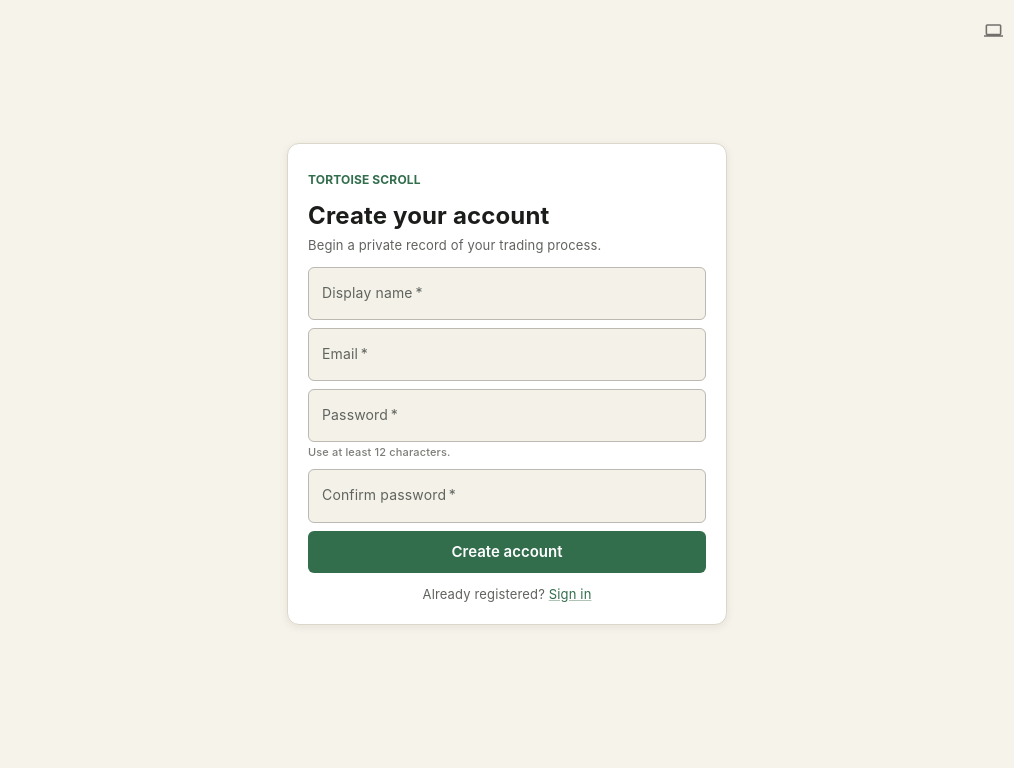
Phase 2 authentication UI › displays server registration errors
Type "Trader" into the field labelled "Display name *" at [507, 294], box [308,267,706,320]
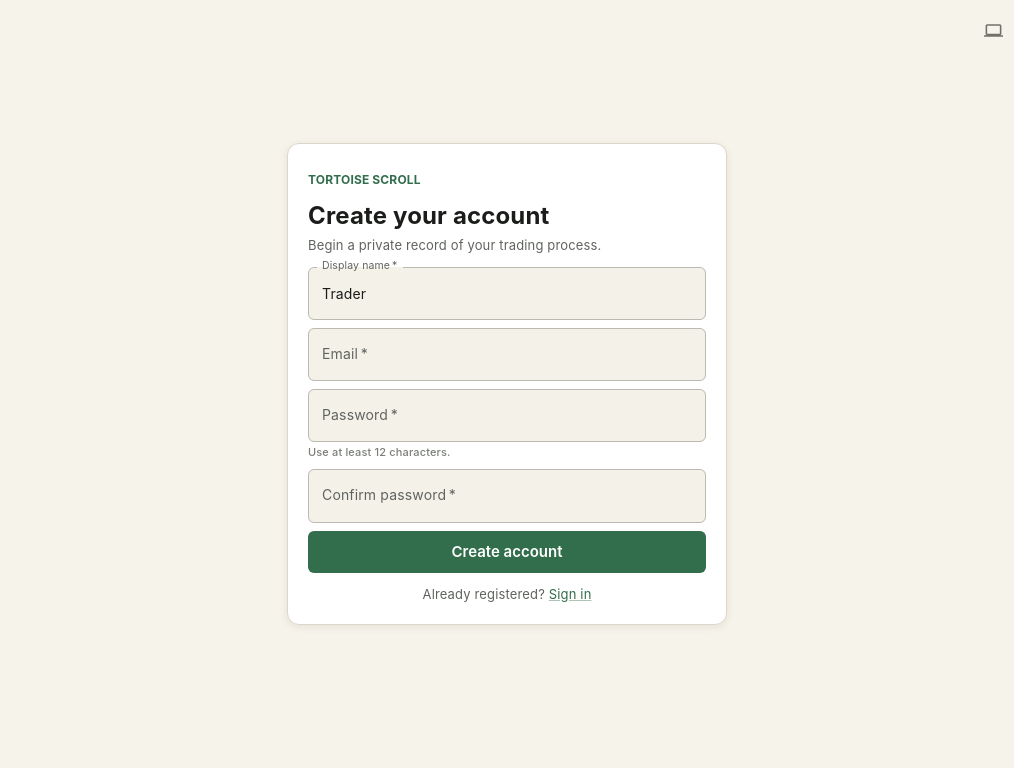
Type "trader@example.com" into the field labelled "Email *" at [507, 355], box [308,328,706,381]
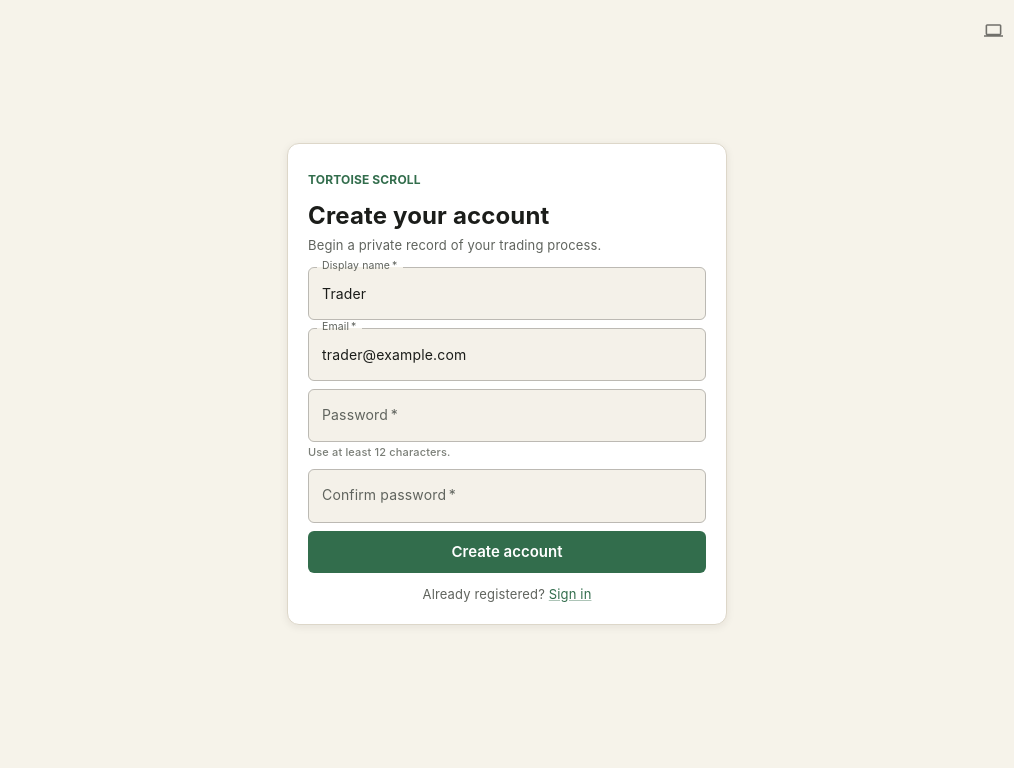
Type "long-enough-password" into the password field labelled "Password *" at [507, 416], box [308,389,706,442]
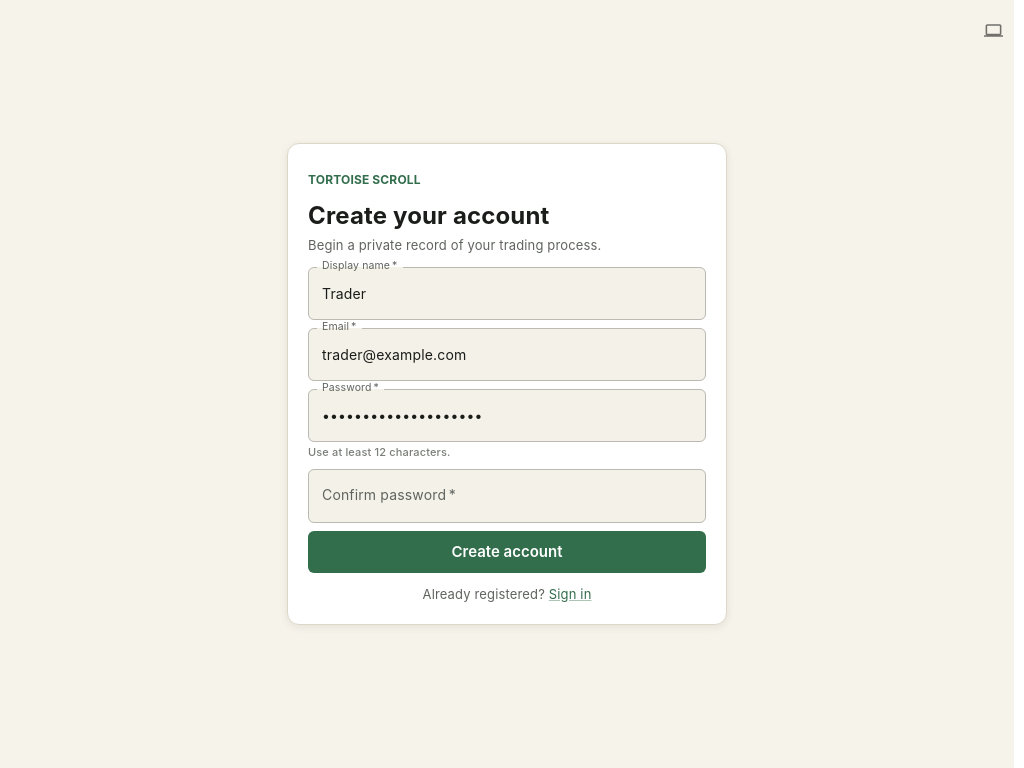
Type "long-enough-password" into the password field labelled "Confirm password *" at [507, 496], box [308,469,706,522]
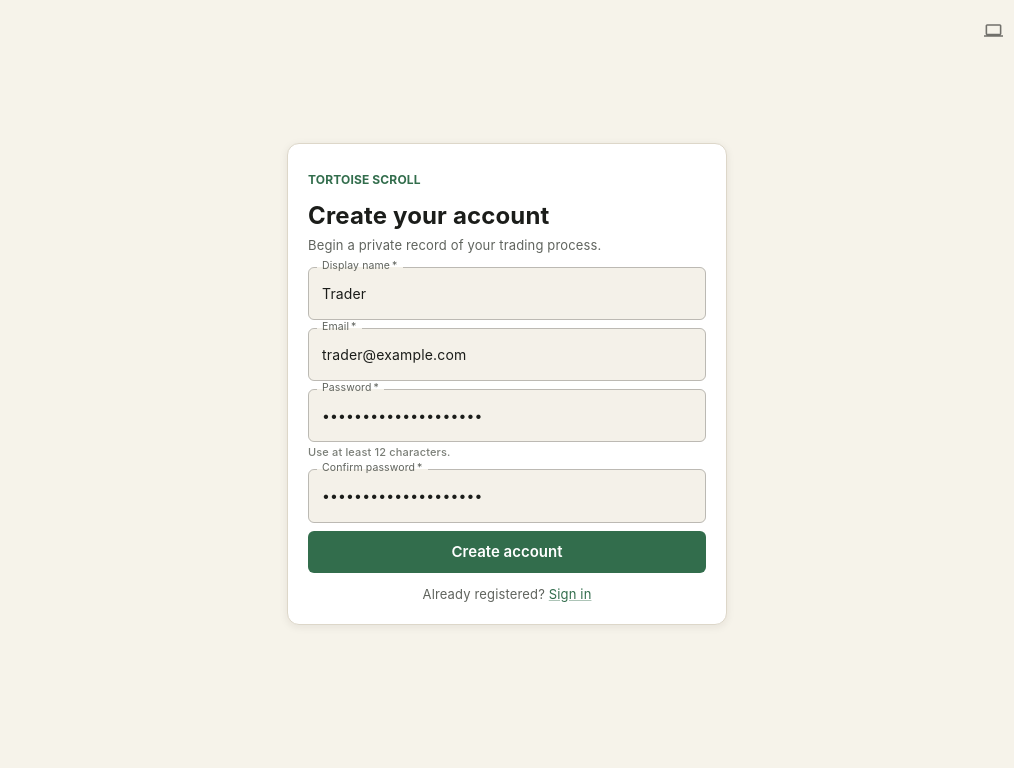
Click the button "Create account" at [507, 552], box [308,530,706,573]
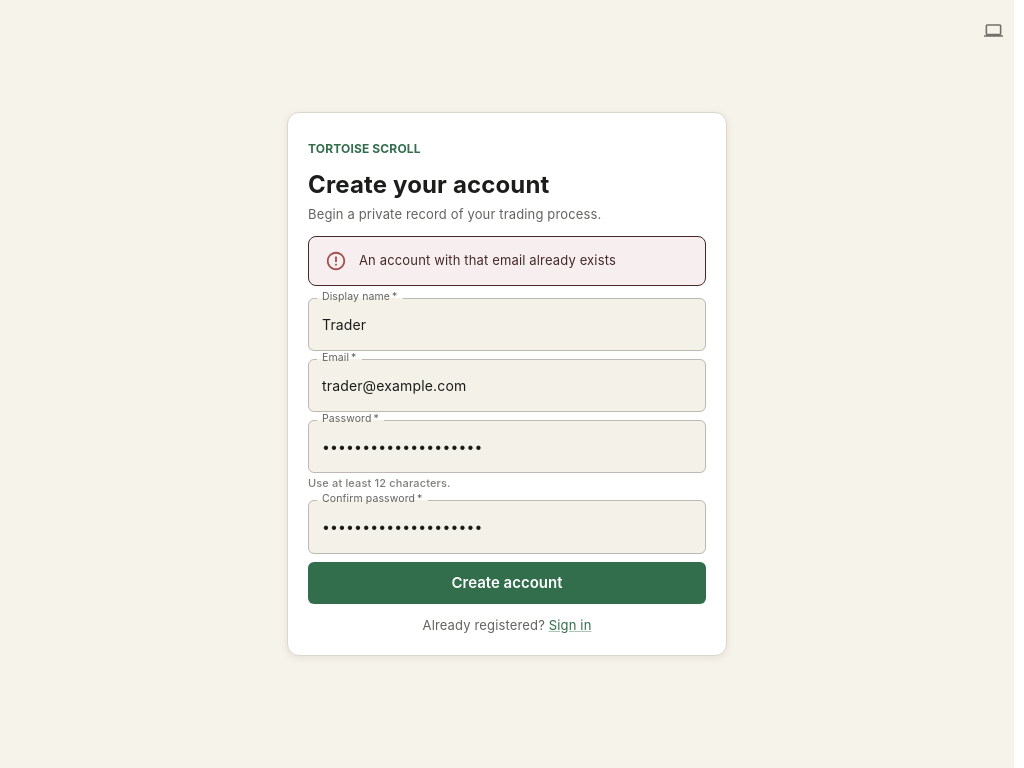
Check: the message shows "already exists", box [359,252,616,268]
